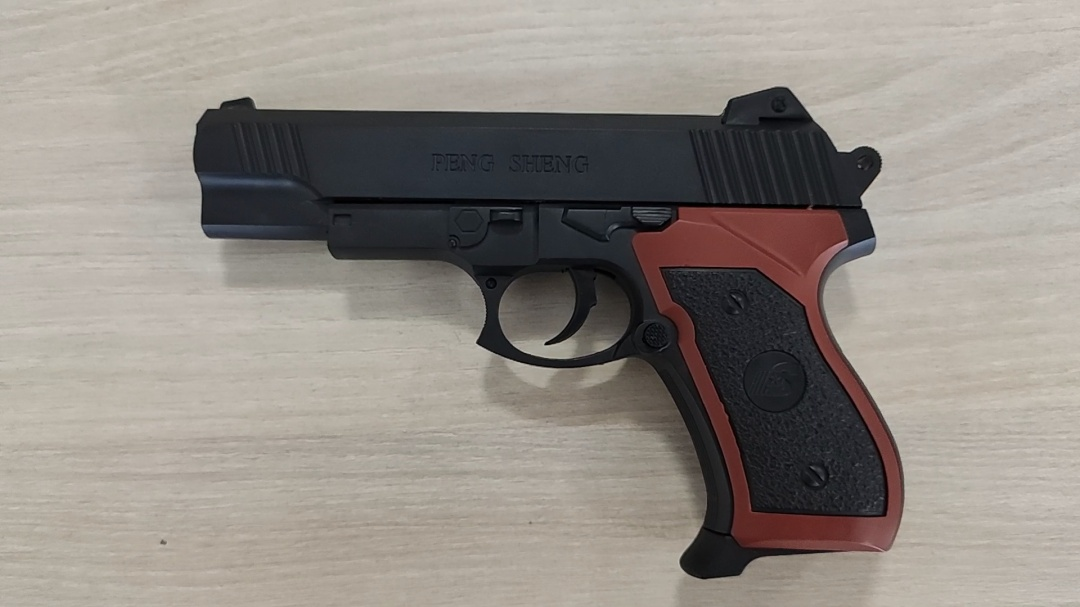gun: (455, 205, 589, 317)
